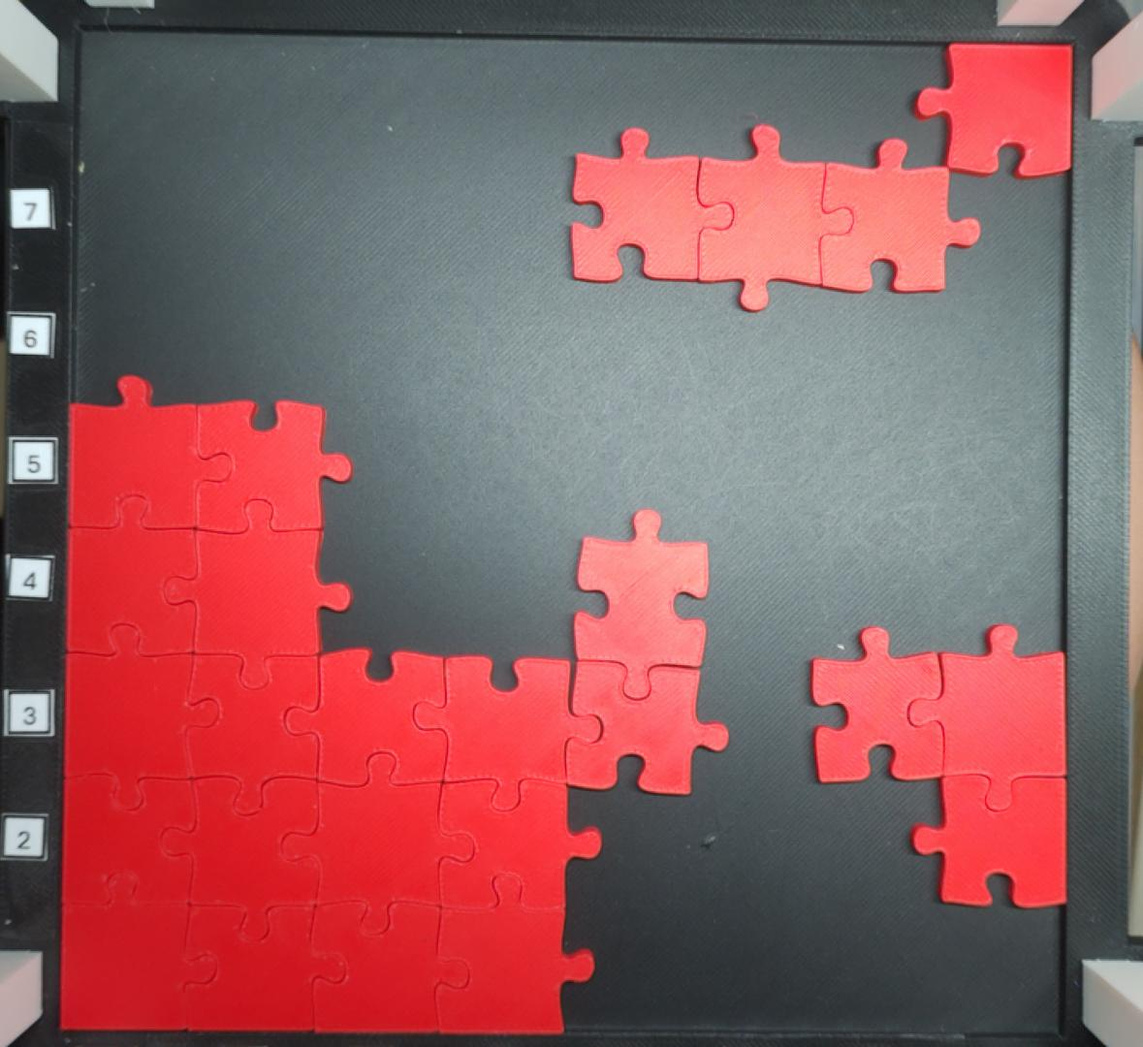p_1: (909, 44, 1073, 179)
p_3: (569, 122, 981, 314), (809, 622, 1069, 911)
p_m: (59, 375, 731, 1036)
